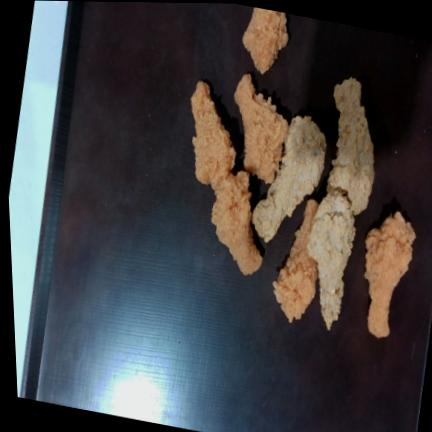chicken: (252, 116, 326, 242), (307, 192, 355, 330), (327, 78, 374, 215), (364, 211, 415, 337), (234, 74, 287, 183), (273, 200, 318, 323), (212, 171, 262, 275), (192, 81, 235, 191), (242, 7, 288, 74)
